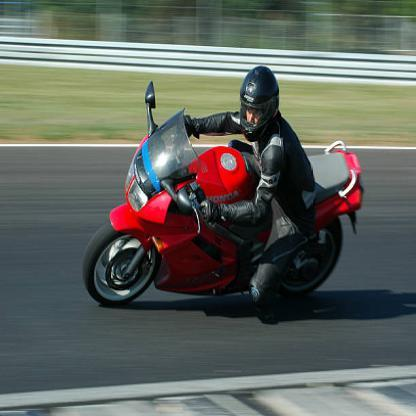Motorcycle: (80, 107, 364, 318)
